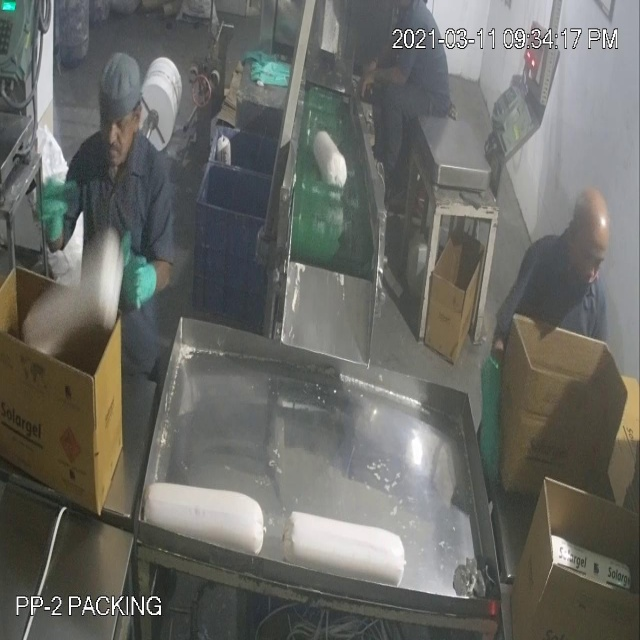Guantes: (476, 330, 509, 492), (120, 235, 167, 312)
Sin_guantes: (352, 53, 413, 108)
